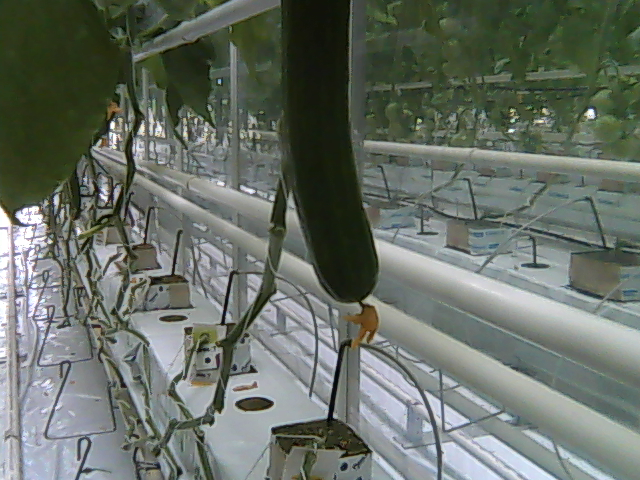concombre: (275, 1, 383, 342)
